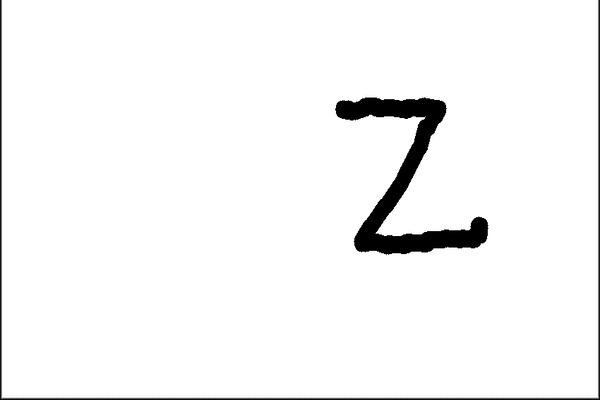Z: (320, 79, 495, 264)
